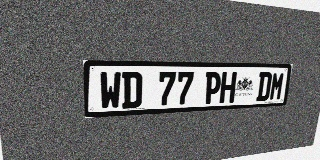7: (157, 72, 176, 107), (175, 72, 194, 106)
D: (122, 72, 142, 109), (256, 72, 273, 101)
H: (219, 72, 237, 103)
M: (269, 72, 285, 101)
P: (203, 72, 222, 104)
W: (99, 72, 121, 110)
